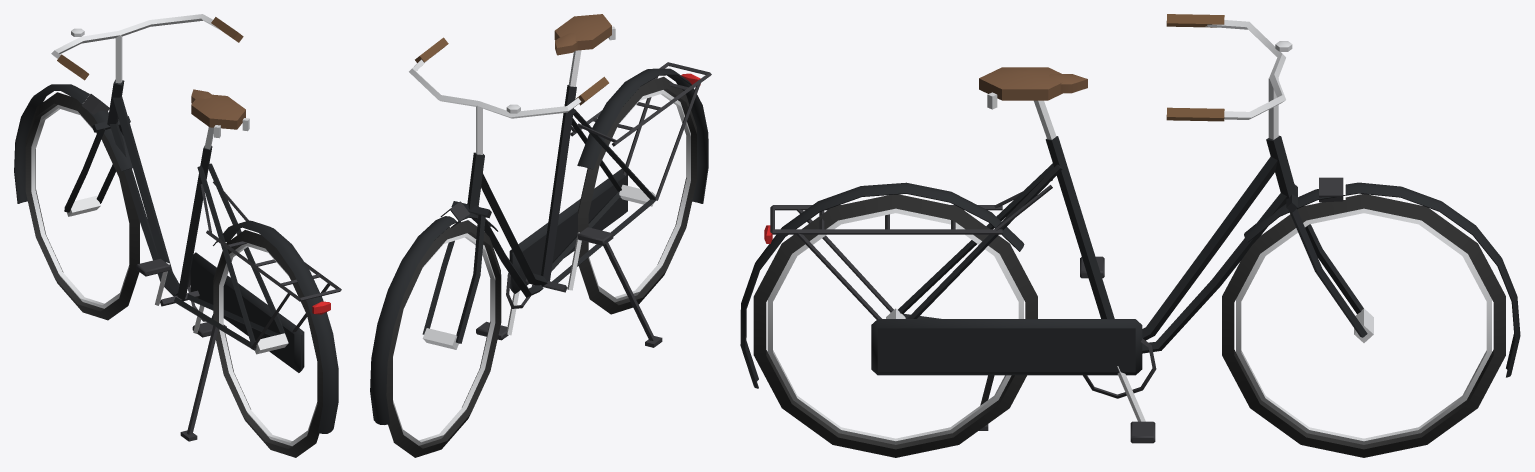
File: bike_oma_parked.glb
The picture shows the model from 3 angles, left to right: view 1: azimuth 30°, elevation 25°; view 2: azimuth 150°, elevation 25°; view 3: azimuth 270°, elevation 25°; orthographic projection. The views are drawn at different scales.
Visible parts, largest first — view 1: bike_parked; view 2: bike_parked; view 3: bike_parked.
Boxes of the visible parts, <box> form: bike_parked: <box>14,14,341,457</box>; bike_parked: <box>370,14,711,457</box>; bike_parked: <box>740,14,1520,457</box>.
Size of the model in its own units: 0.574 by 1.07 by 1.9.
